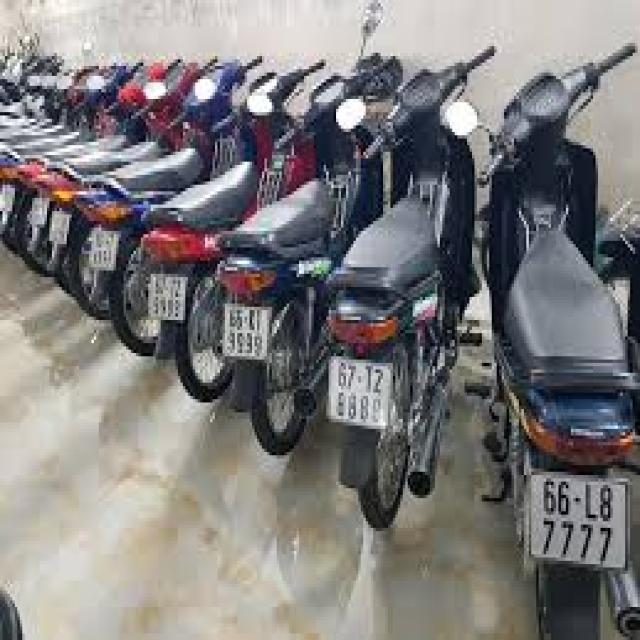bien_so: (519, 450, 637, 579), (329, 360, 400, 447)
